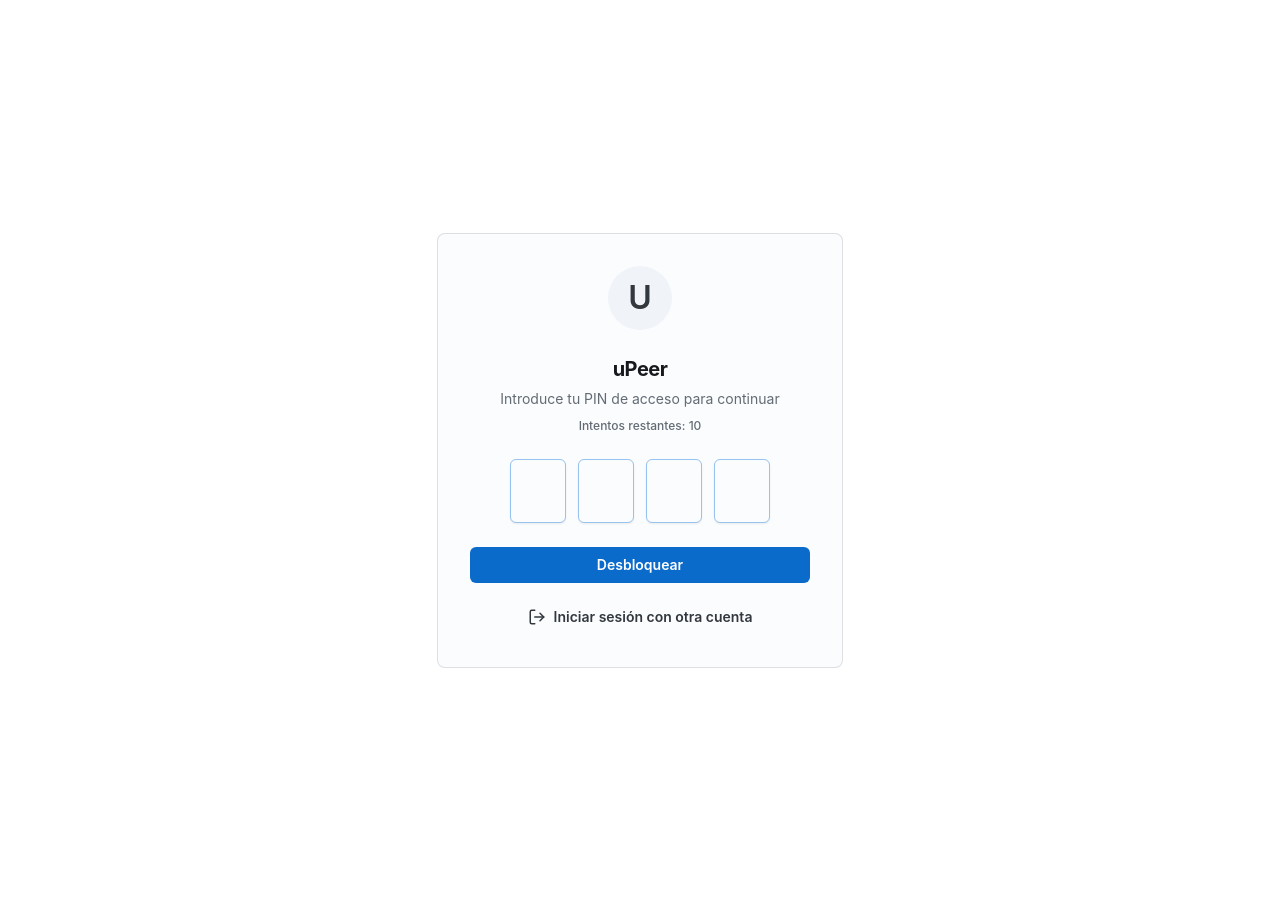
Scenario: AppLock Component (UI-to-Backend Integration) › should show error message on invalid PIN
Type "0" into the 1st password field at (538, 490), box [523,460,553,522]
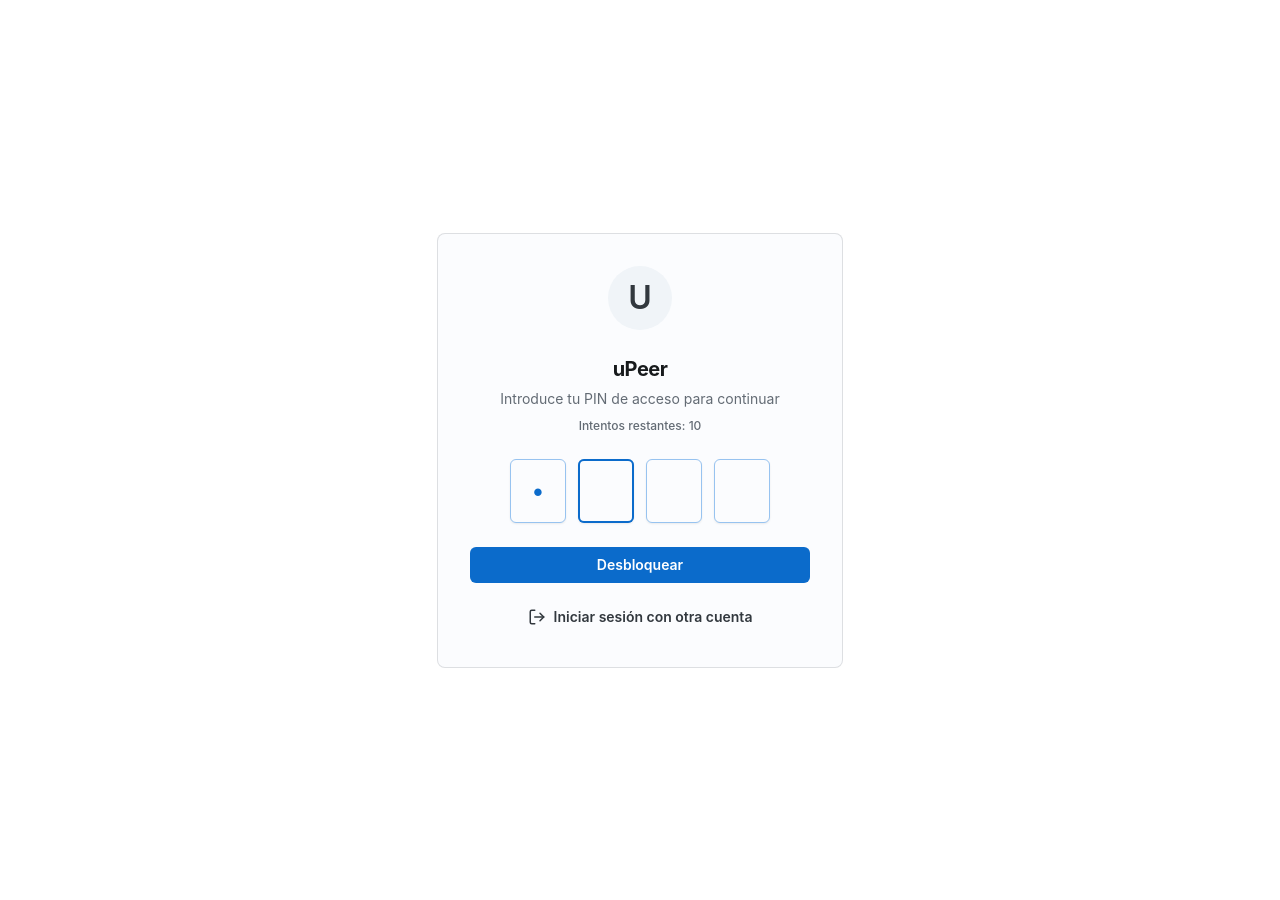
Type "0" into the 2nd password field at (606, 490), box [591,460,621,522]
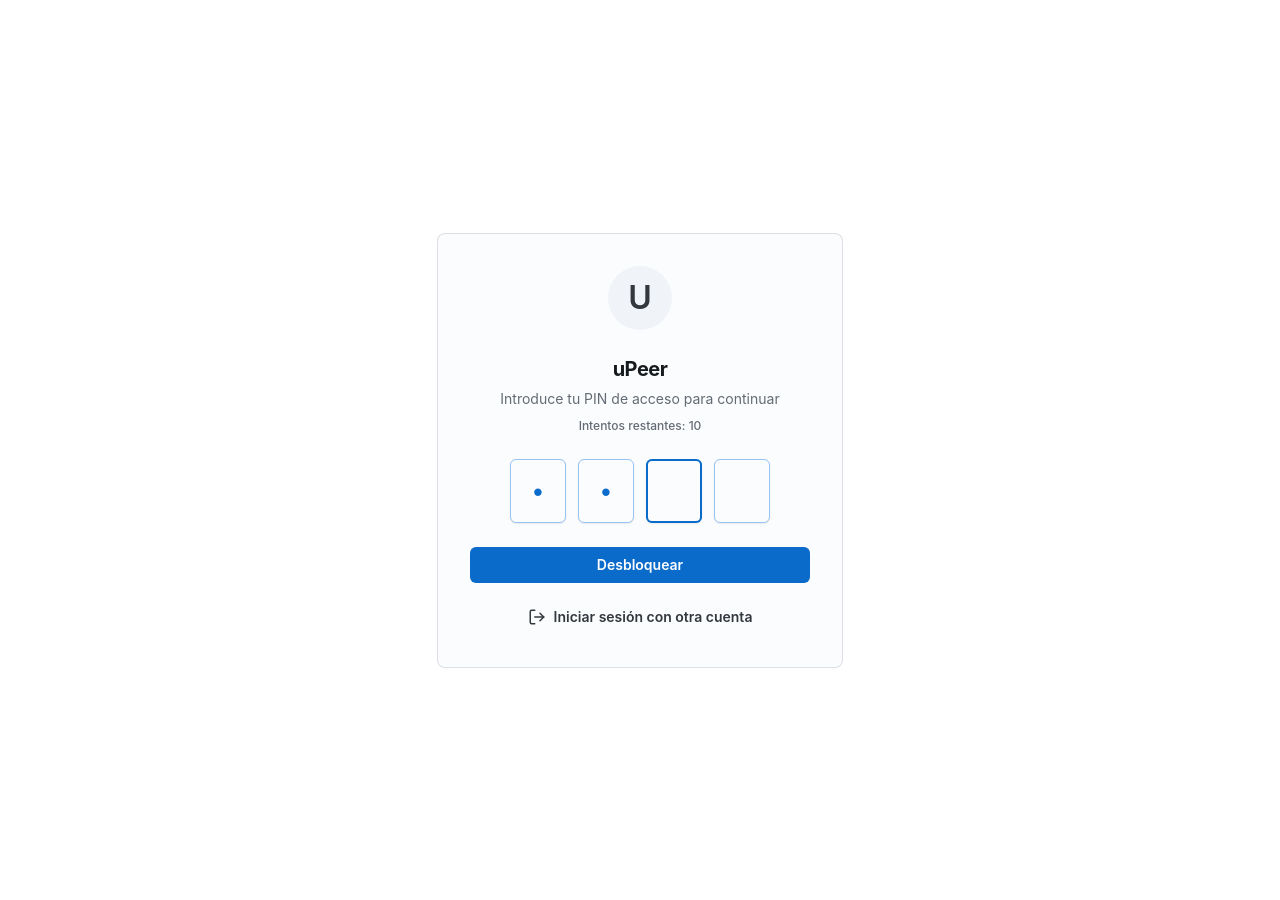
Type "0" into the 3rd password field at (674, 490), box [659,460,689,522]
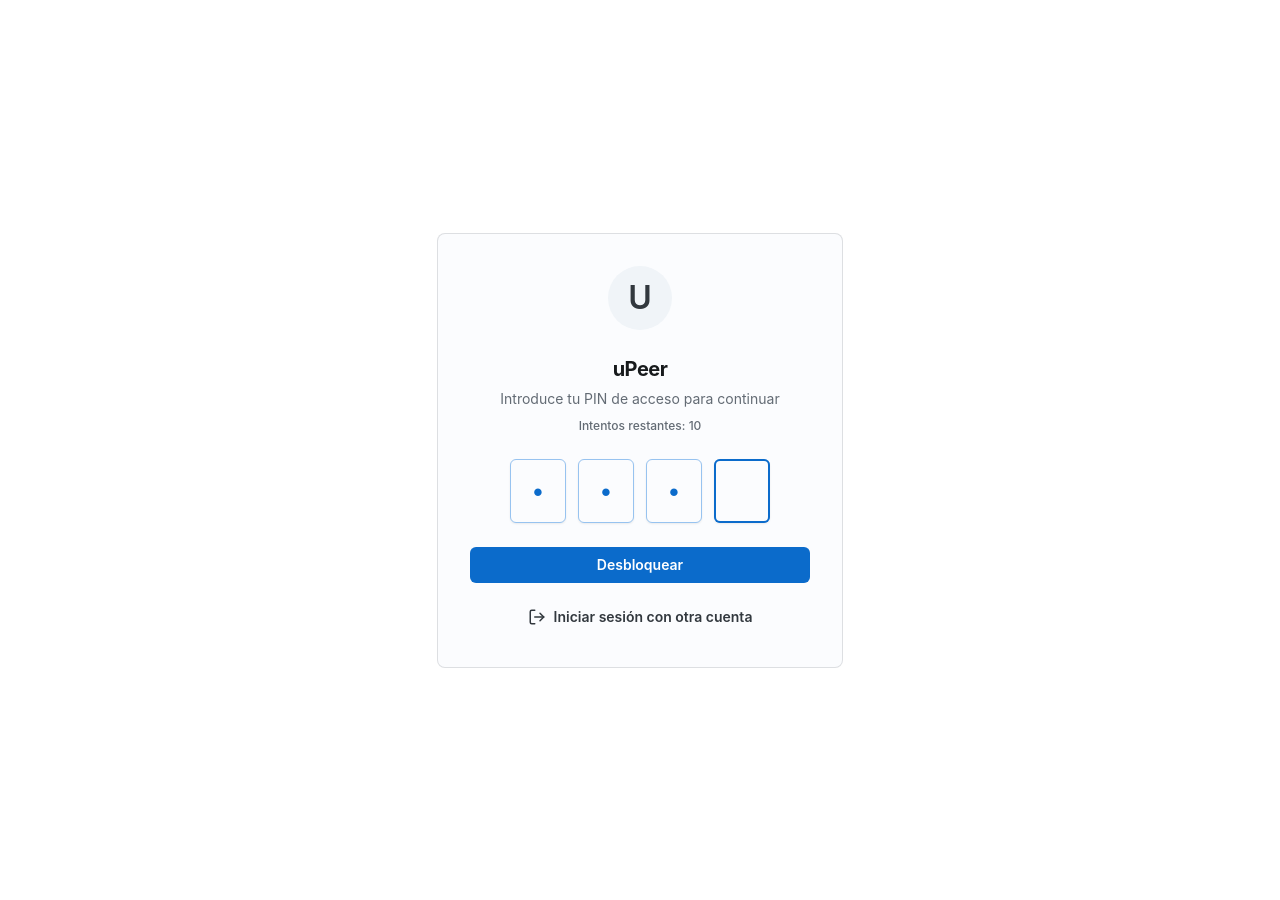
Type "0" into the 4th password field at (742, 490), box [727,460,757,522]
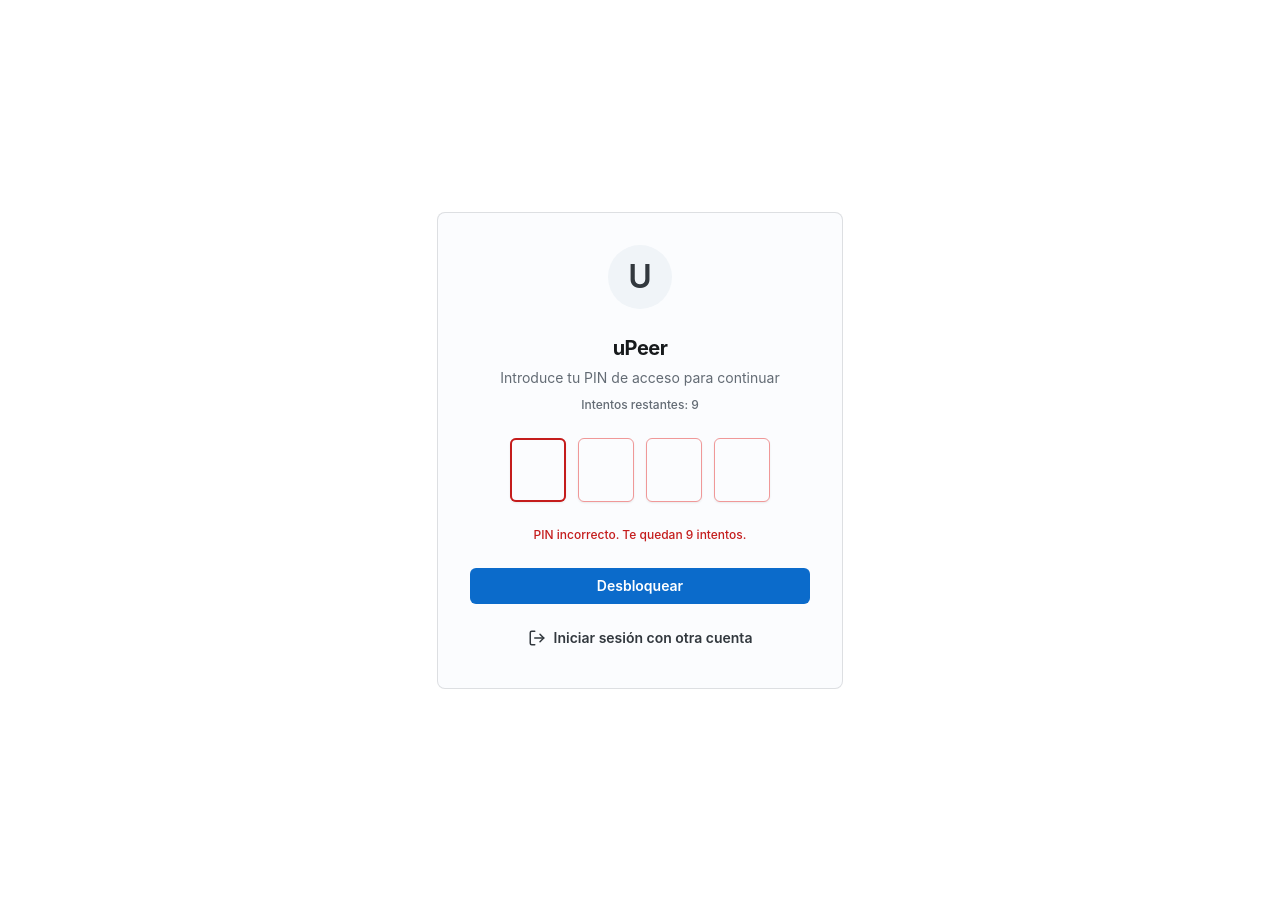
Result: the text "PIN incorrecto. Te quedan 9 intentos." is shown at [534,526,746,542]
Result: the 1st password field is empty at [523,438,553,500]
